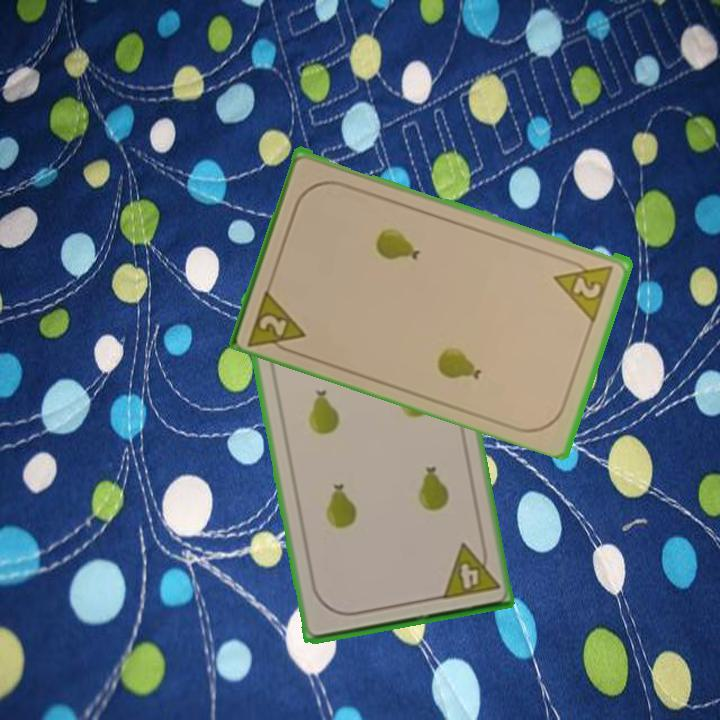2p: (245, 282, 310, 358), (551, 255, 617, 322)
4p: (437, 537, 502, 602)
